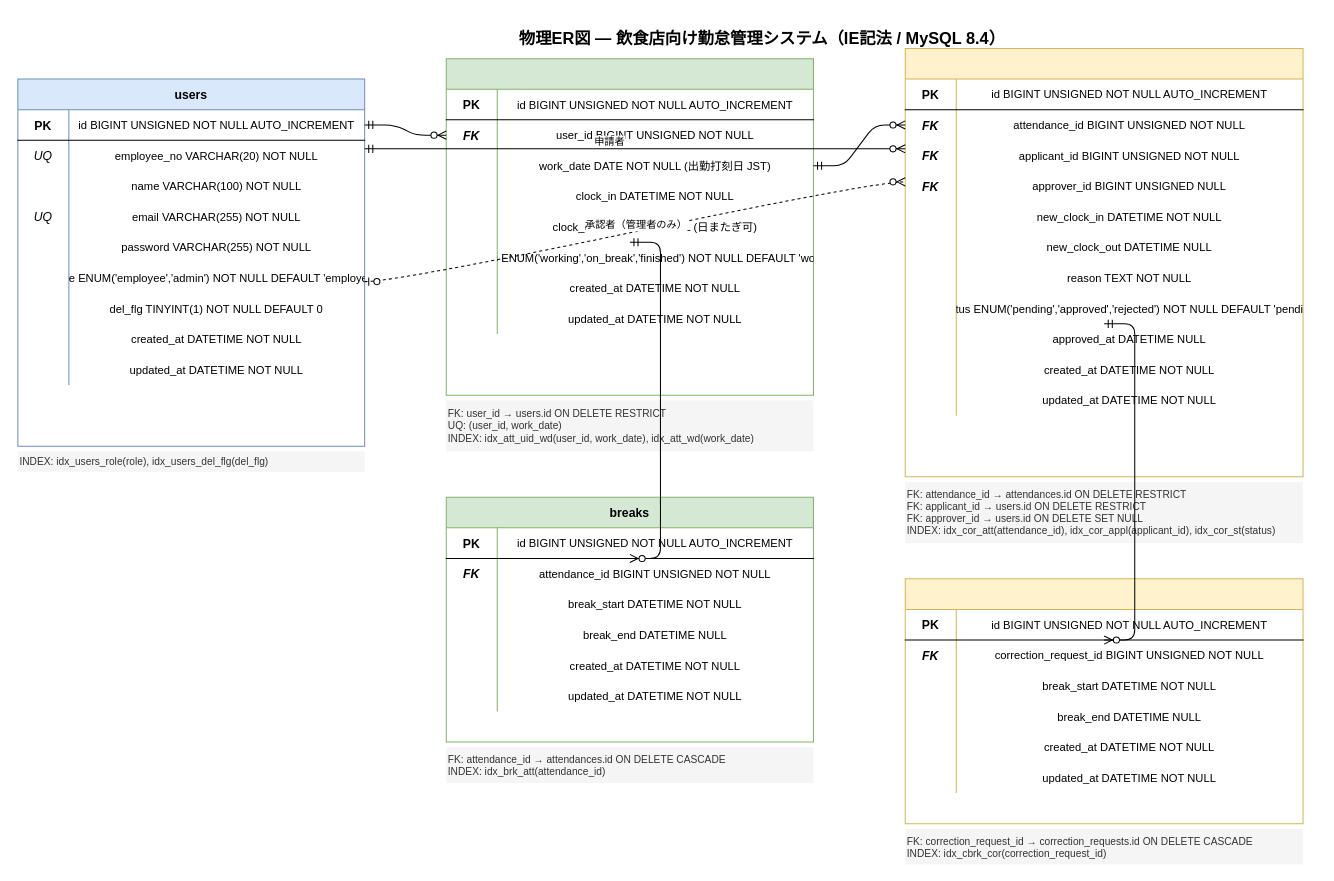
This 1334x881 diagram has some shape labels left out. Here are the shapes that lost their labels. From the top down, the box of each, then its label:
(445, 58, 813, 395): attendances
(904, 47, 1303, 477): correction_requests
(904, 578, 1303, 824): correction_breaks
